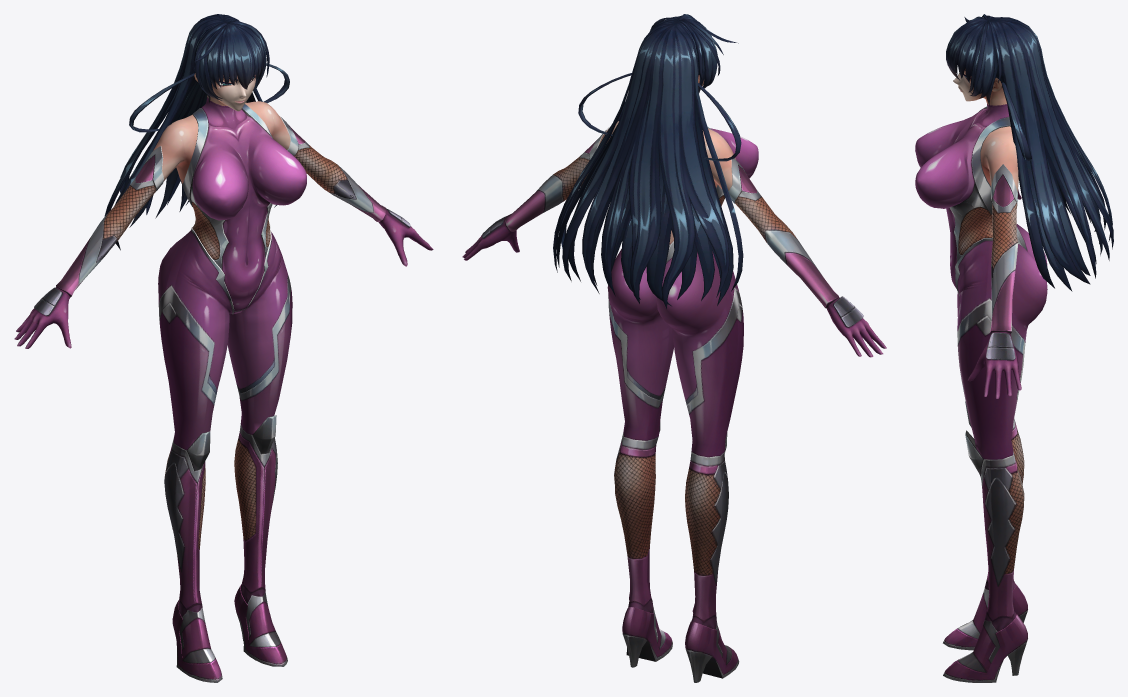
Rendered from asagi.glb.
3 views of the same model, side by side, from view 1: azimuth 30°, elevation 25°; view 2: azimuth 150°, elevation 25°; view 3: azimuth 270°, elevation 25° (orthographic).
Parts seen in each view (by area): view 1: 0000_charbody_5, 0003_charhair_4, 0002_charbody_2, 0001_charbody_1, 0005_charface_0; view 2: 0000_charbody_5, 0003_charhair_4, 0002_charbody_2, 0001_charbody_1; view 3: 0000_charbody_5, 0003_charhair_4, 0002_charbody_2, 0001_charbody_1, 0005_charface_0.
Boxes of the visible parts, x1,y1,x2,y2 form: 0000_charbody_5: [14, 97, 433, 682]; 0003_charhair_4: [104, 14, 289, 250]; 0002_charbody_2: [34, 104, 410, 663]; 0001_charbody_1: [153, 95, 290, 259]; 0005_charface_0: [194, 73, 255, 111]; 0000_charbody_5: [462, 128, 886, 682]; 0003_charhair_4: [553, 14, 743, 308]; 0002_charbody_2: [482, 126, 863, 664]; 0001_charbody_1: [598, 121, 735, 244]; 0000_charbody_5: [915, 104, 1047, 682]; 0003_charhair_4: [946, 14, 1113, 291]; 0002_charbody_2: [949, 106, 1026, 672]; 0001_charbody_1: [958, 81, 1018, 254]; 0005_charface_0: [953, 69, 1001, 101].
Size of the model in its own units: 1.15 by 1.7 by 0.4765.
7 materials, 7 textured.
